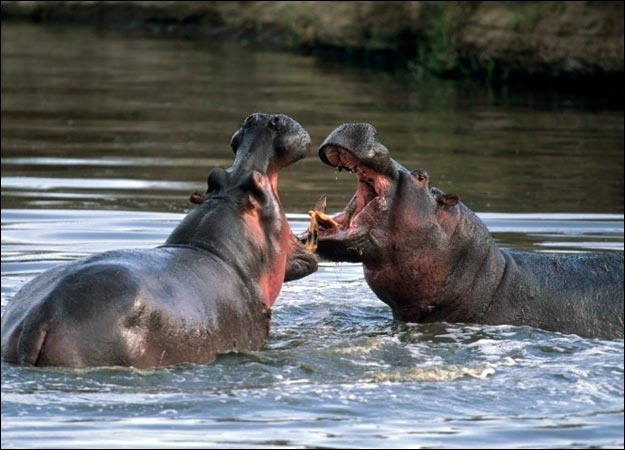hipopotamo: (1, 94, 328, 379), (297, 112, 625, 352)
